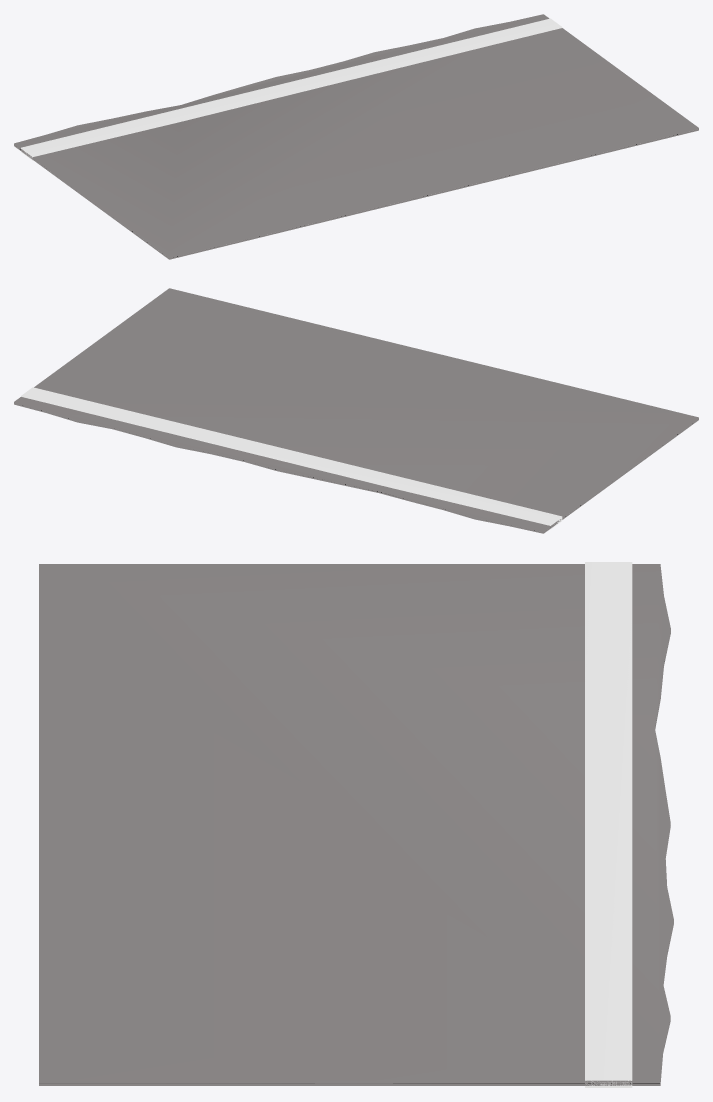
Rendered from Road_01_or.fbx.
3 views of the same model, one above another, from view 1: azimuth 30°, elevation 25°; view 2: azimuth 150°, elevation 25°; view 3: azimuth 270°, elevation 25° (orthographic). The views are drawn at different scales.
Visible parts, largest first — view 1: Cube.001; view 2: Cube.001; view 3: Cube.001.
Boxes of the visible parts, box(x1,y1,x2,y2) form: Cube.001: box(14, 14, 698, 259); Cube.001: box(14, 288, 698, 533); Cube.001: box(39, 562, 673, 1087).
Size of the model in its own units: 800 by 6.43 by 415.
